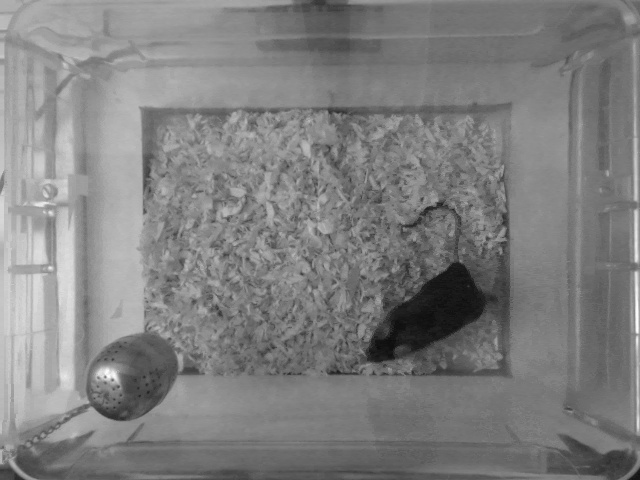mice: (359, 192, 498, 369)
